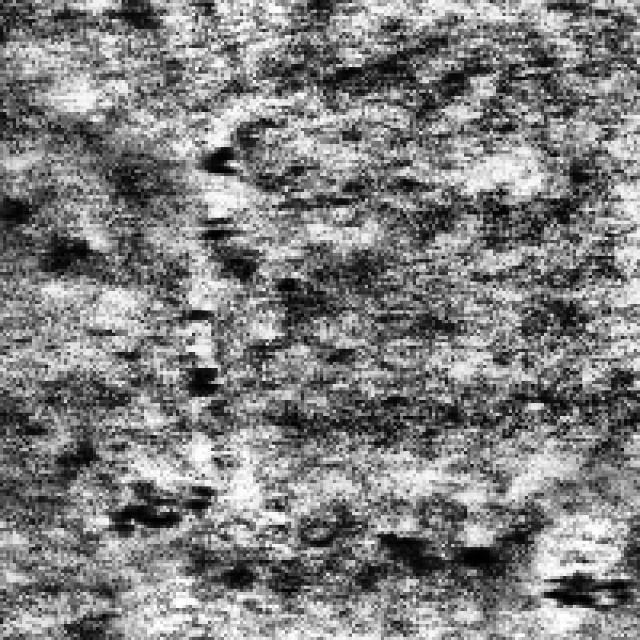Crazing: (90, 460, 624, 618), (144, 131, 262, 400)
